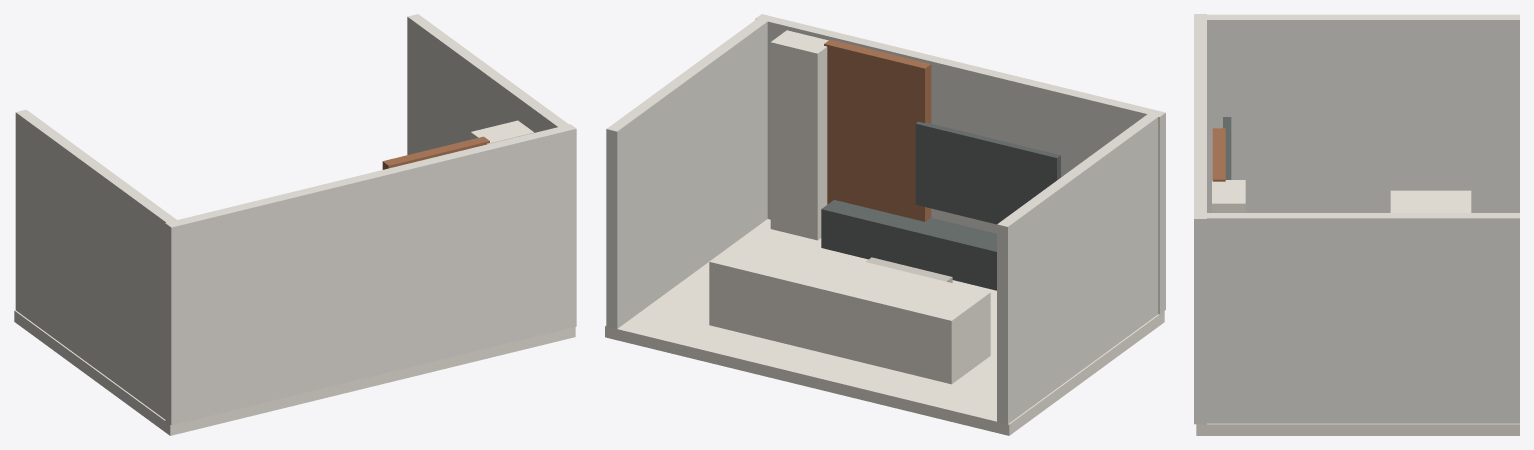
The model's file is living-1-study.glb.
3 views of the same model, side by side, from view 1: azimuth 30°, elevation 25°; view 2: azimuth 150°, elevation 25°; view 3: azimuth 270°, elevation 25° (orthographic). The views are drawn at different scales.
Visible parts, largest first — view 1: wall (×3), floor, slatted-wall, display; view 2: wall (×3), sofa, floor, slatted-wall, display, tv, tv-console, table; view 3: wall (×3), floor, sofa, display, slatted-wall, tv.
Boxes of the visible parts, x1=… form: wall (×3): x1=15, y1=14, x2=576, y2=425; floor: x1=14, y1=310, x2=575, y2=435; slatted-wall: x1=382, y1=136, x2=489, y2=169; display: x1=470, y1=120, x2=534, y2=144; wall (×3): x1=606, y1=14, x2=1165, y2=424; sofa: x1=709, y1=233, x2=990, y2=384; floor: x1=605, y1=219, x2=1164, y2=435; slatted-wall: x1=824, y1=39, x2=931, y2=221; display: x1=770, y1=30, x2=828, y2=240; tv: x1=915, y1=121, x2=1060, y2=224; tv-console: x1=821, y1=200, x2=996, y2=290; table: x1=866, y1=257, x2=952, y2=282; wall (×3): x1=1194, y1=14, x2=1519, y2=424; floor: x1=1196, y1=423, x2=1519, y2=435; sofa: x1=1390, y1=190, x2=1471, y2=212; display: x1=1212, y1=180, x2=1245, y2=212; slatted-wall: x1=1212, y1=128, x2=1225, y2=181; tv: x1=1223, y1=117, x2=1231, y2=179.
Size of the model in its own units: 6 by 2.96 by 4.03.
